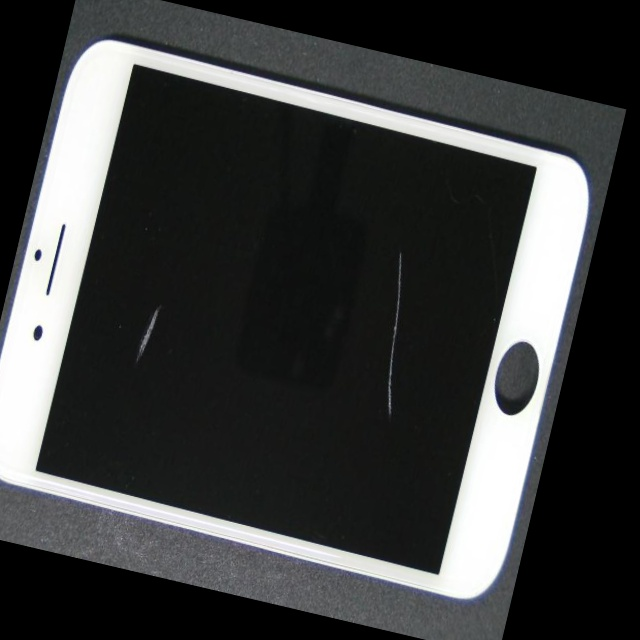scratch: (165, 20, 622, 454), (17, 180, 234, 575)
